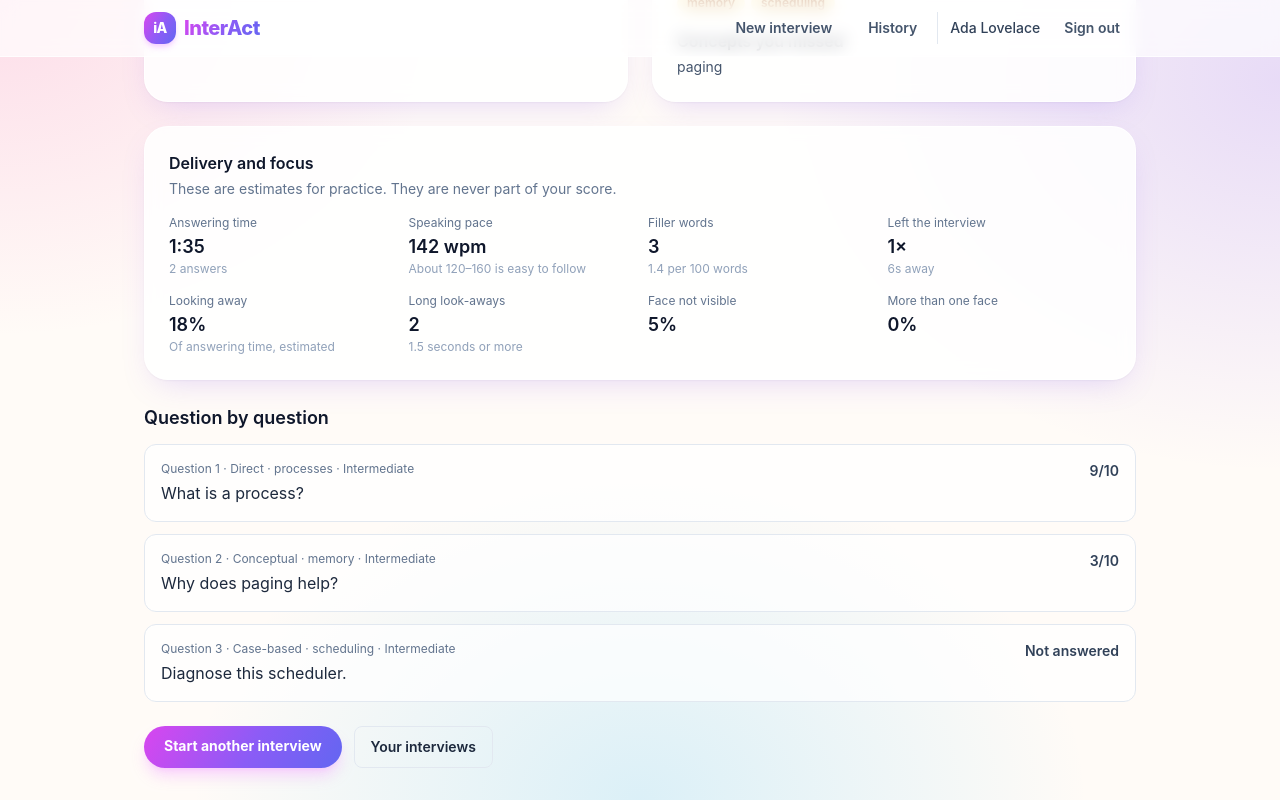
Test case: report page › shows each question with the answer, scores, quotes and a better-answer outline
The image size is (1280, 800).
(page scrolled)
Click the text "What is a process?".
click(232, 493)  # box [161, 483, 304, 503]
(page scrolled)
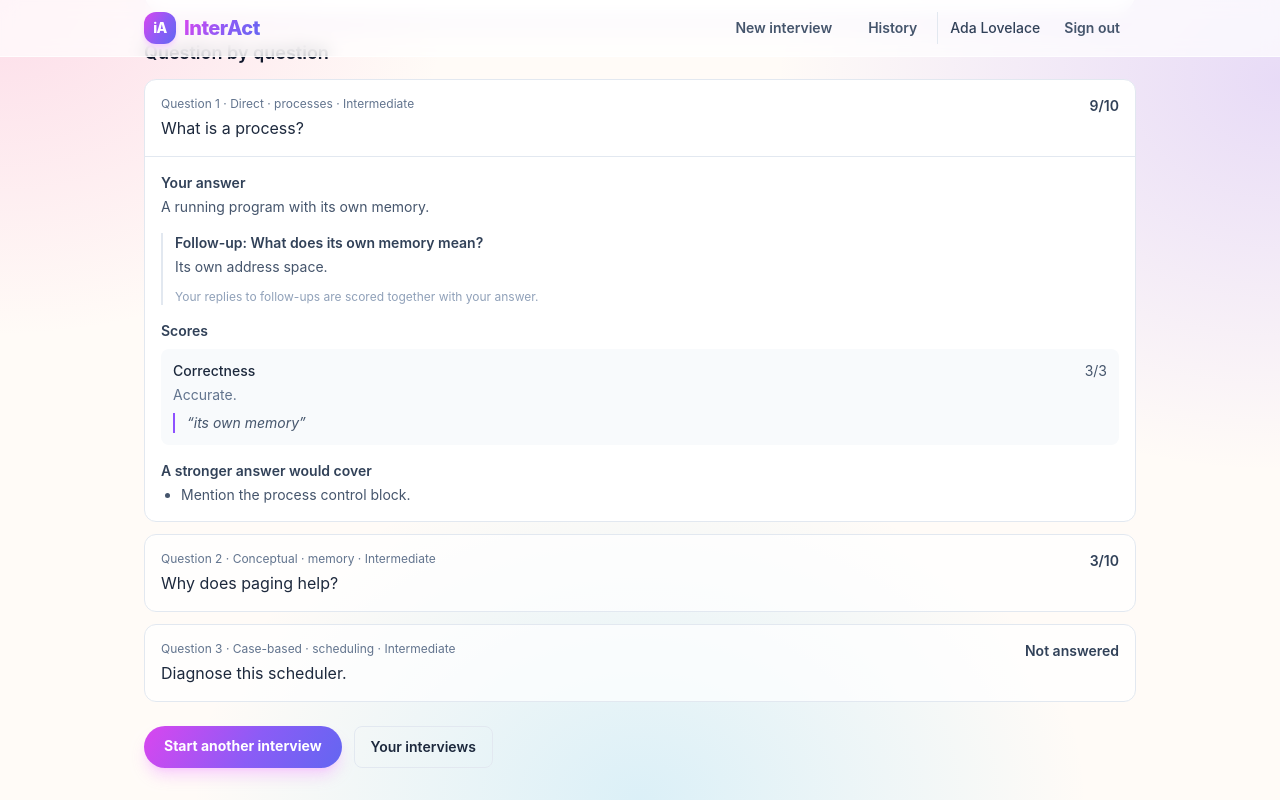
Expected: the text "A running program with its own memory." is shown, [161, 198, 429, 215]
Expected: the text "“its own memory”" is shown, [173, 413, 1107, 433]
Expected: the list item "Mention the process control block." is shown, [181, 486, 411, 503]
